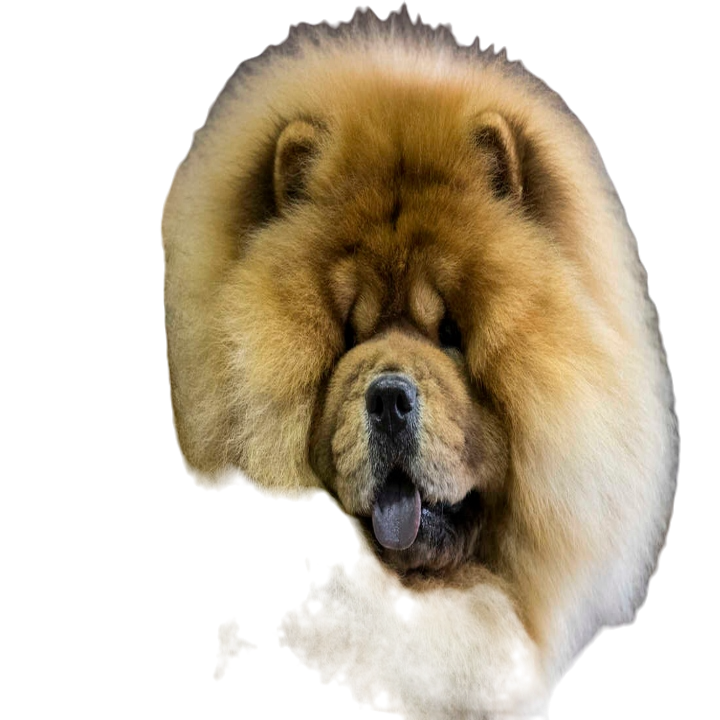Dog: (159, 15, 685, 719)
